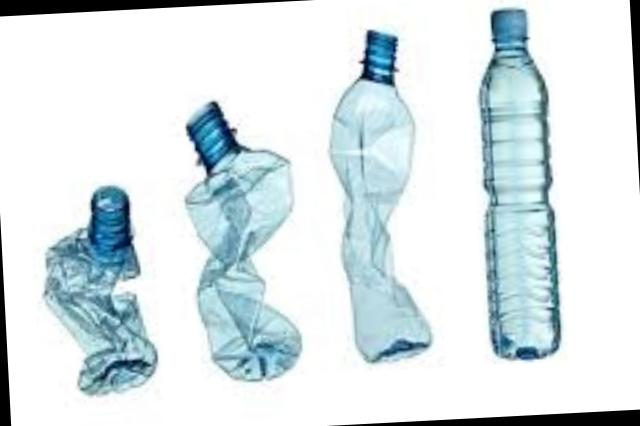plastic: (334, 27, 433, 356), (189, 99, 304, 377), (484, 7, 563, 355), (50, 183, 159, 391)
